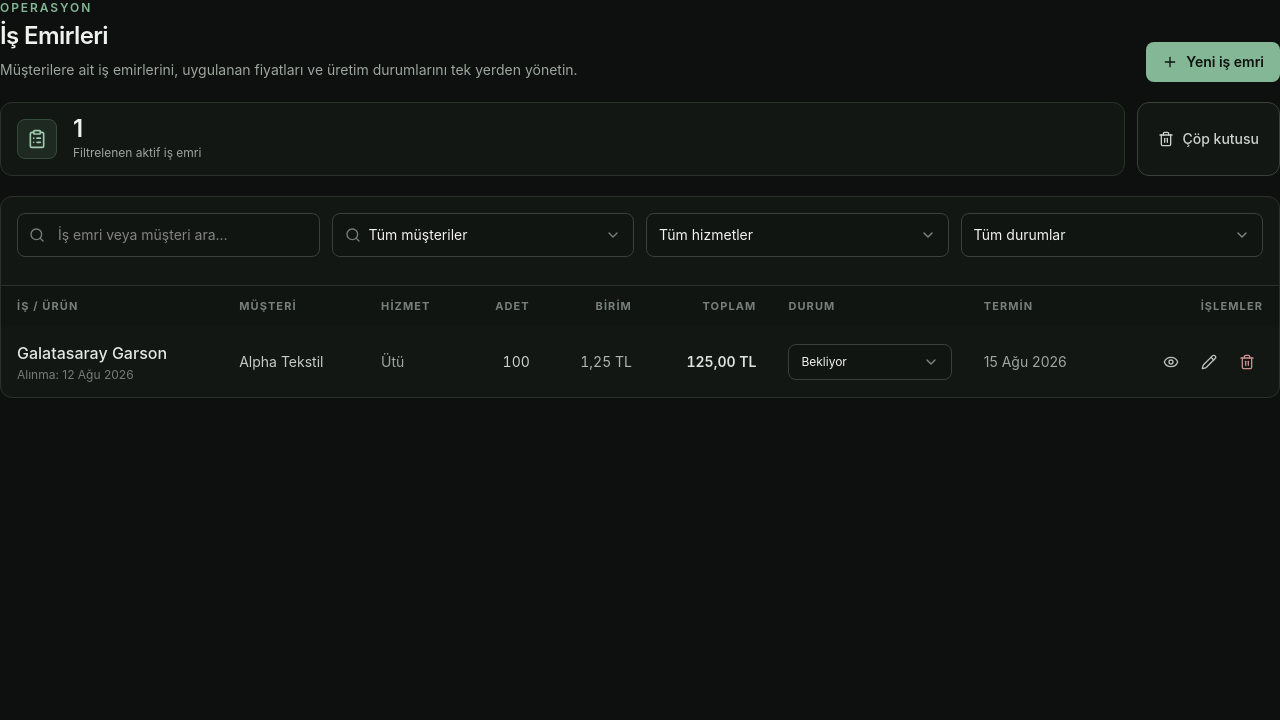
Test: WorkOrderPage › müşteri seçer ve CustomerPrice varsayılanını forma uygular
Click the button "Yeni iş emri".
click(1213, 62)  # box [1146,42,1279,82]
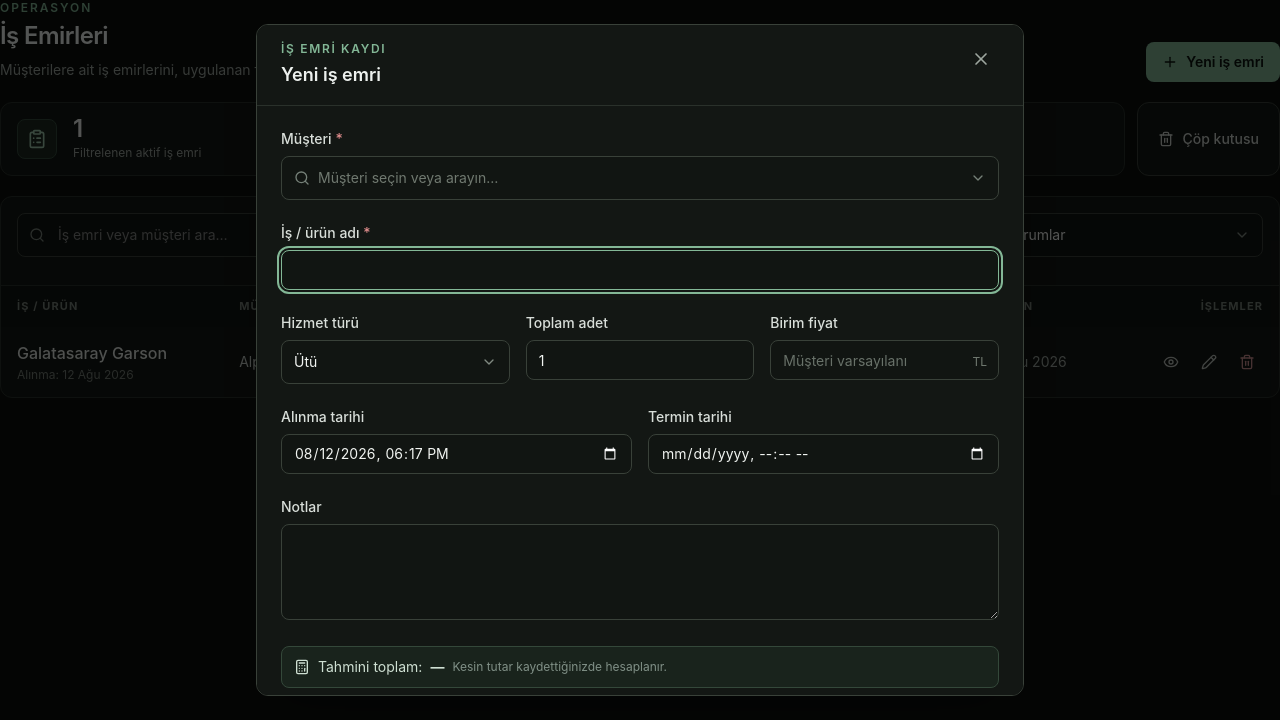
Focus the dropdown labelled "Müşteri" at (640, 178), box [318,158,962,198]
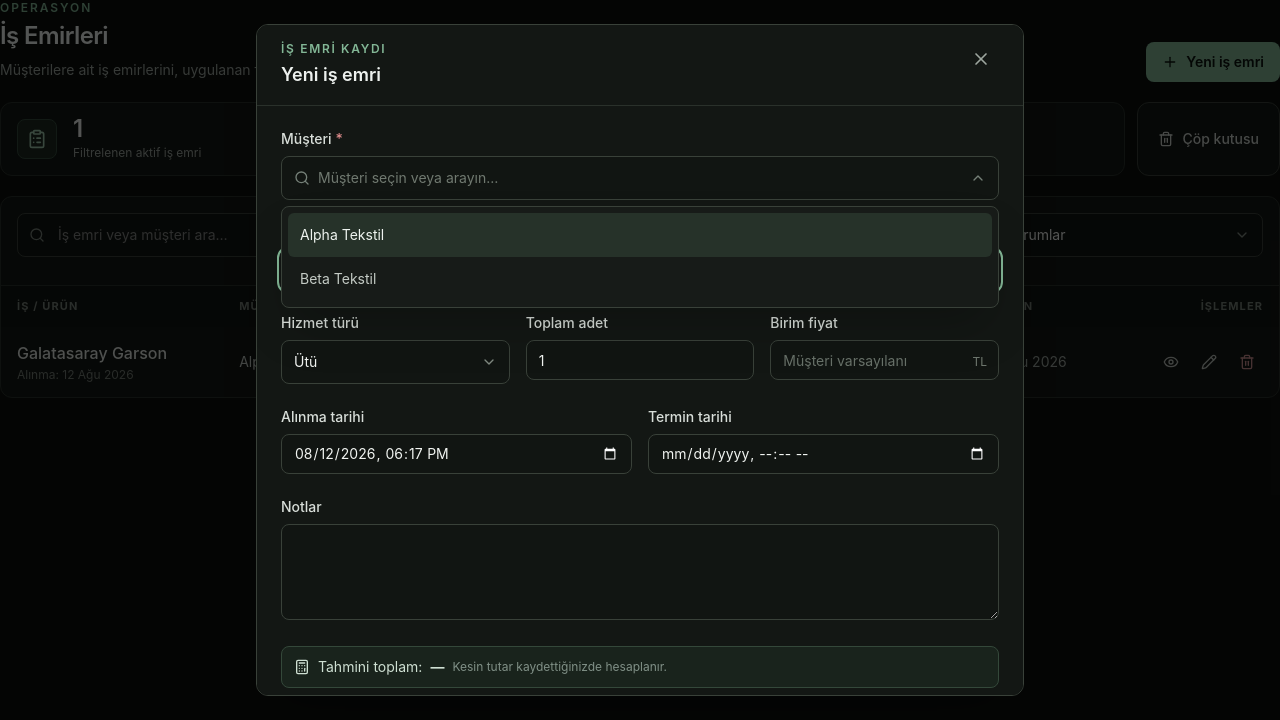
Click the option "Alpha Tekstil".
click(342, 234)  # box [288,213,992,257]
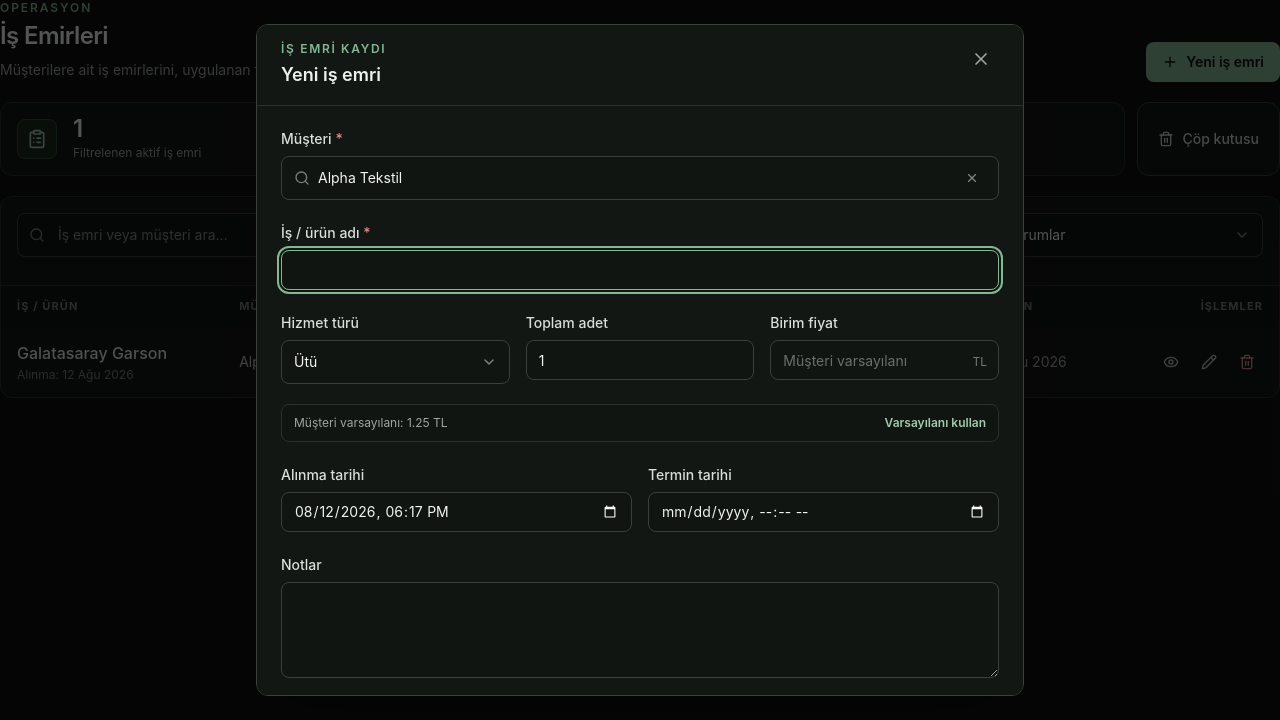
Check: the text "Müşteri varsayılanı: 1.25 TL" is shown, box [294,415,448,431]
Click the button "Varsayılanı kullan".
click(935, 423)  # box [885,415,986,431]
(page scrolled)
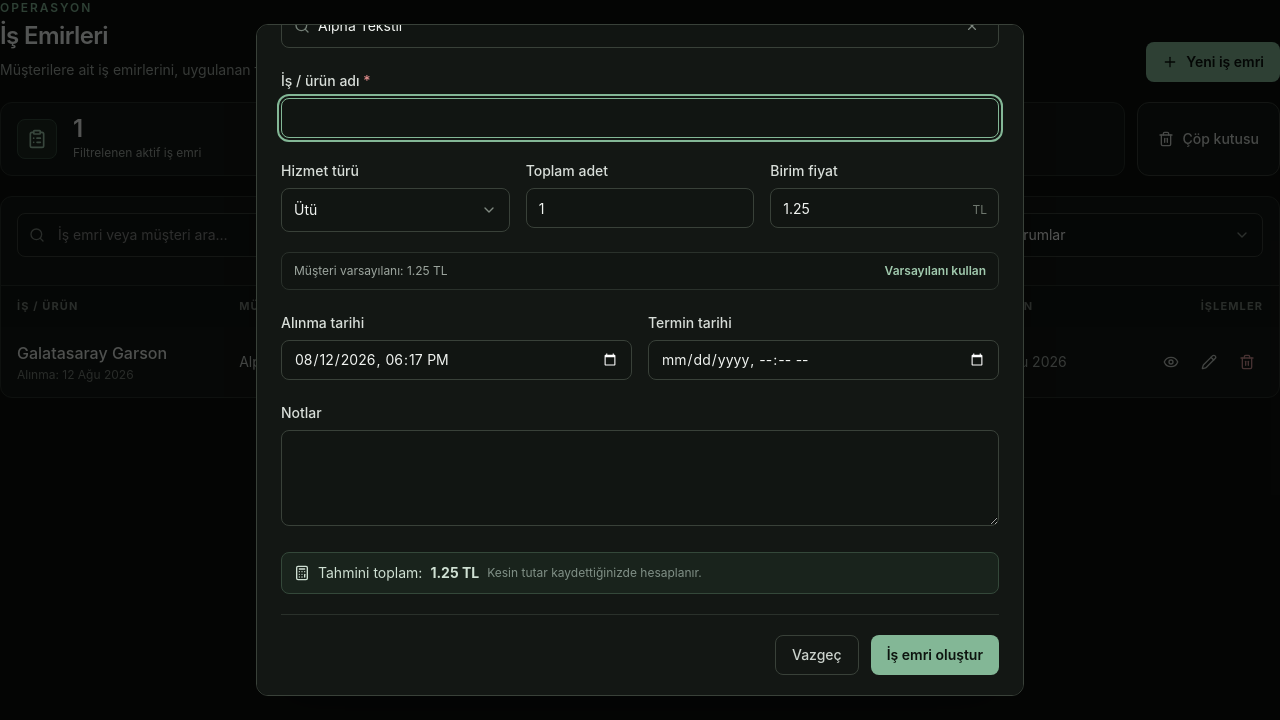
Check: the field labelled "Birim fiyat" holds "1.25", box [770,188,999,228]
Check: the text "Kesin tutar kaydettiğinizde hesaplanır." is shown, box [487,565,702,581]
